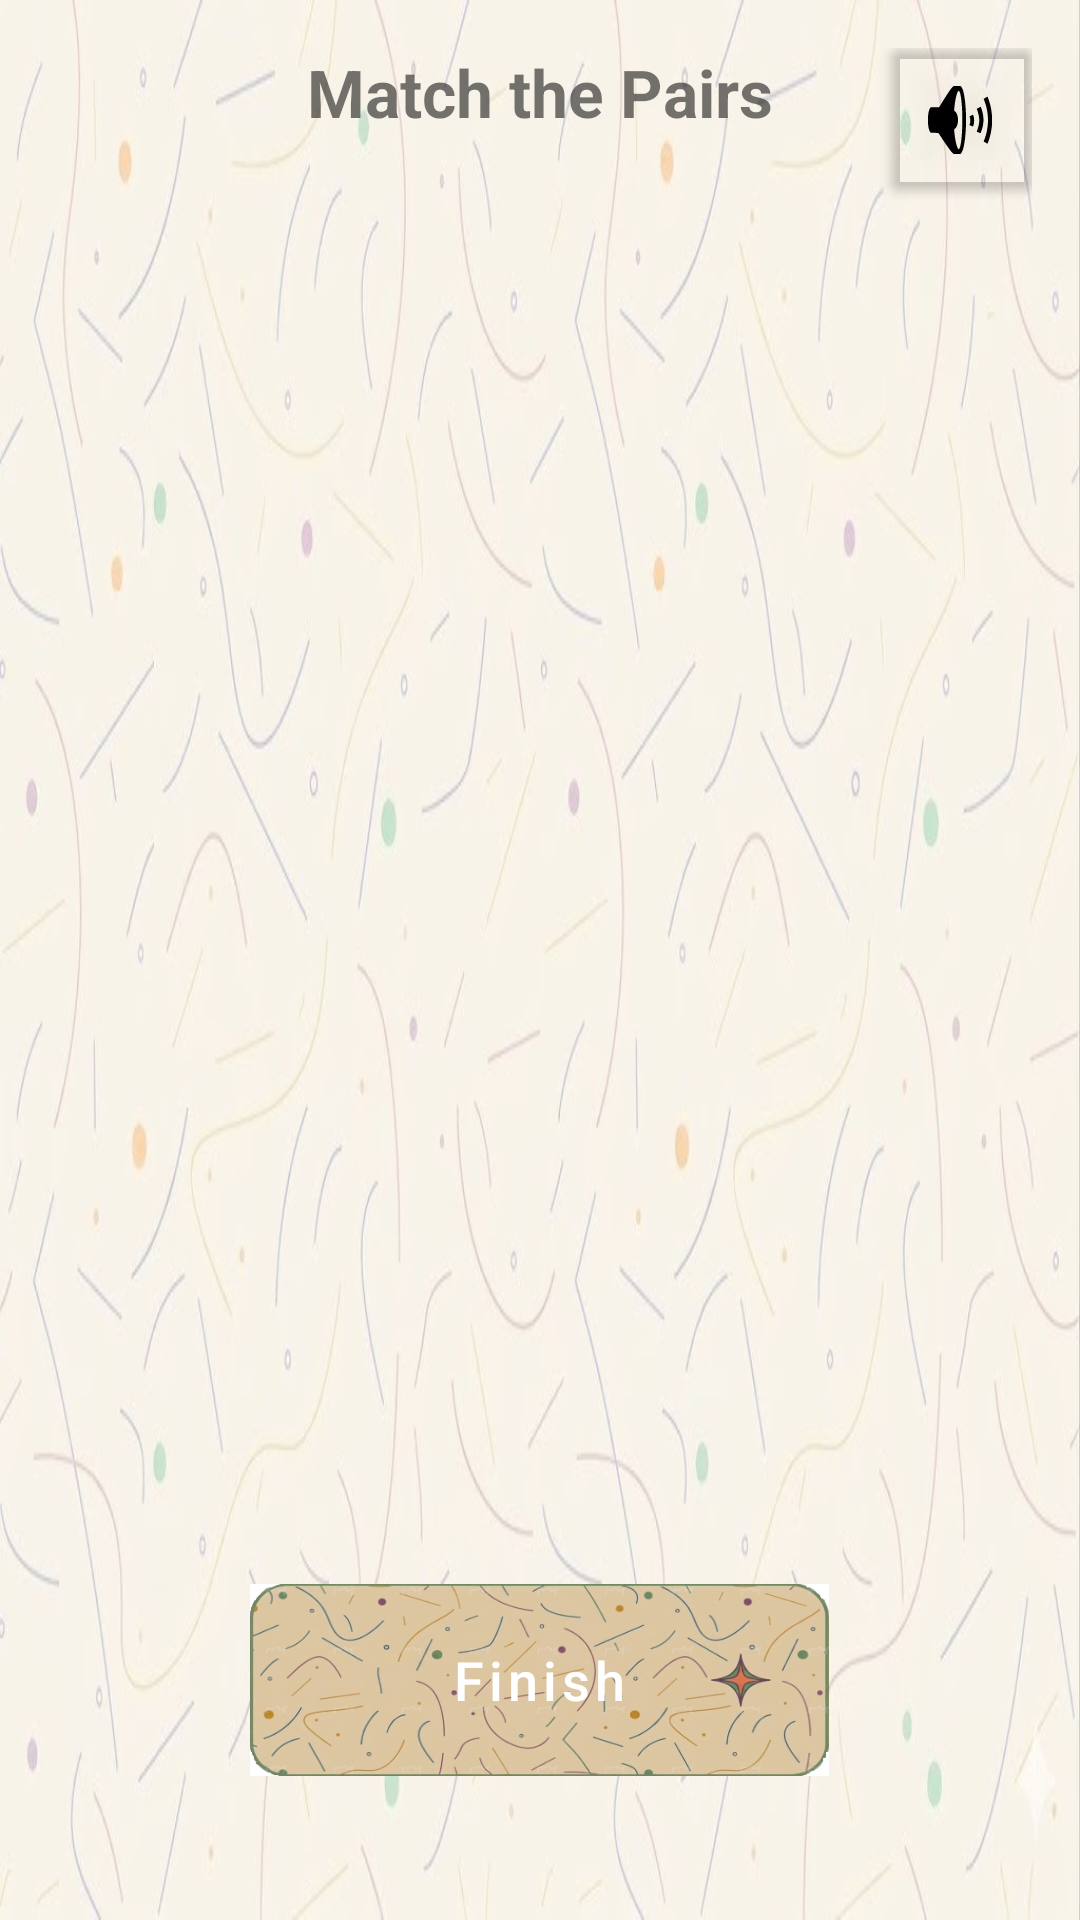

Named icons in this screenshot (1080px x 1920px) and their bounding boxes, (x1, y1, x2, y2):
lock silent mode off: (888, 48, 1032, 192)
